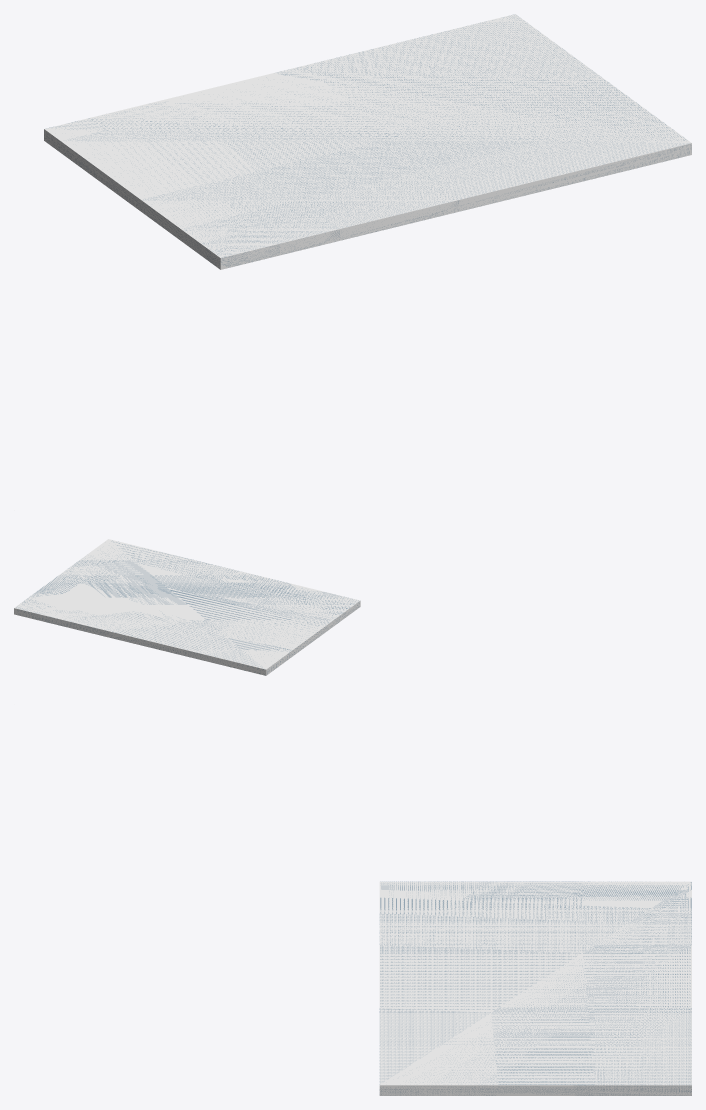
Rendered from bases.obj.
The picture shows the model from 3 angles, top to bottom: view 1: azimuth 30°, elevation 25°; view 2: azimuth 150°, elevation 25°; view 3: azimuth 270°, elevation 25°; orthographic projection. The views are drawn at different scales.
Visible parts, largest first — view 1: Mesh21 Model; view 2: Mesh21 Model; view 3: Mesh21 Model.
Boxes of the visible parts, box(x1,y1,x2,y2) form: Mesh21 Model: box(44, 14, 691, 269); Mesh21 Model: box(14, 539, 360, 675); Mesh21 Model: box(379, 881, 691, 1095).
Size of the model in its own units: 21.21 by 0.27 by 15.91.
